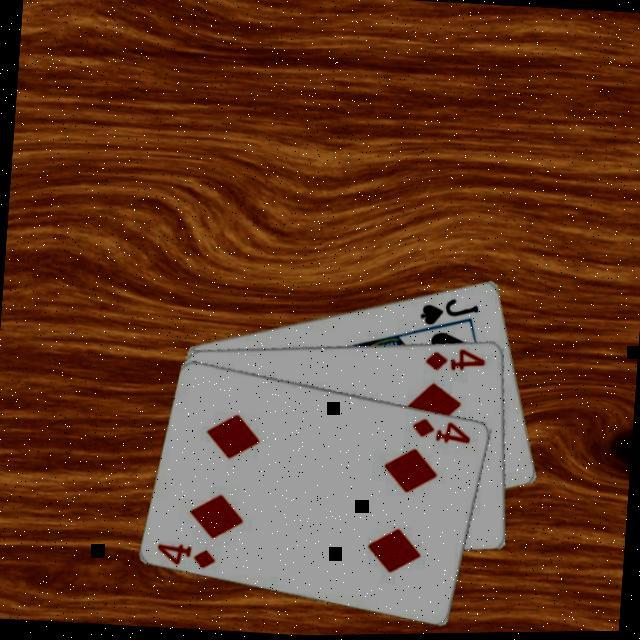4D: (419, 344, 487, 378), (151, 540, 217, 574), (406, 416, 473, 449)
JS: (414, 295, 480, 334)
